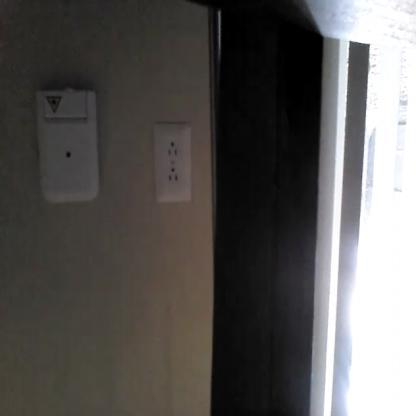OUTLET: (153, 123, 191, 203)
